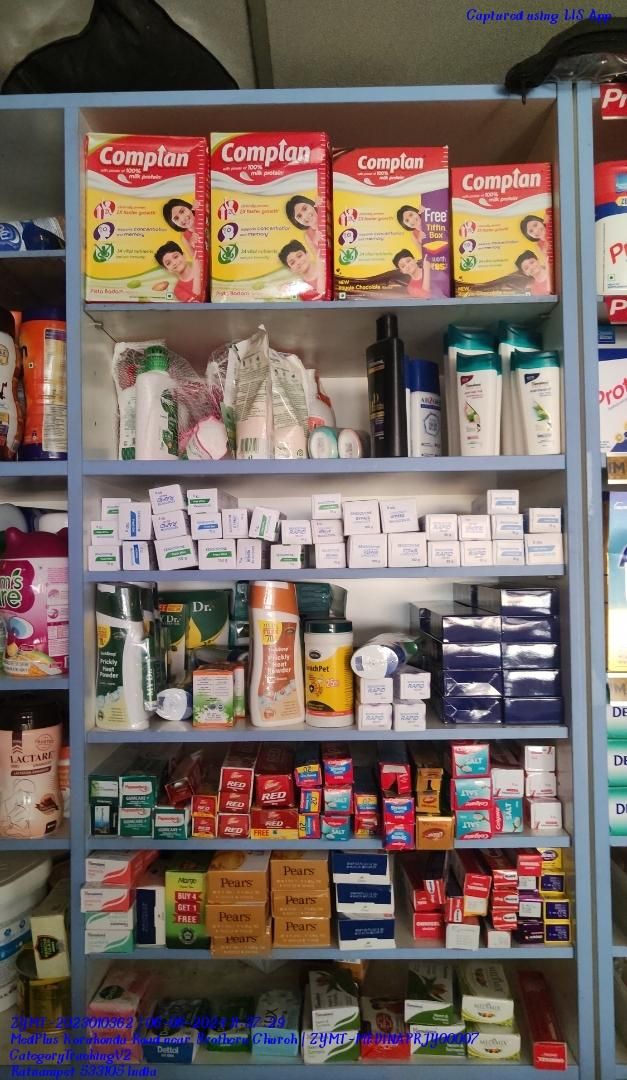COMPLAN_CHOCOLATE_200_GMS_PACK: (452, 166, 555, 299)
COMPLAN_PISTA_BADAM_500_GMS_PACK: (88, 131, 200, 304), (210, 133, 320, 303)
